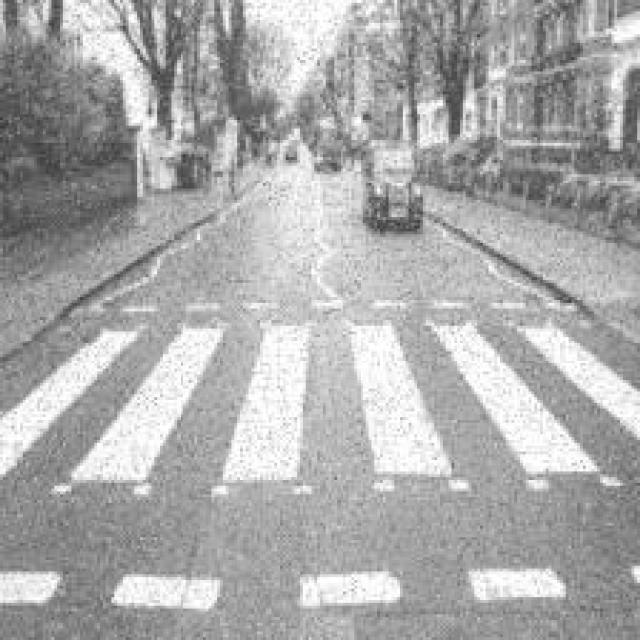crosswalk: (0, 298, 640, 614)
